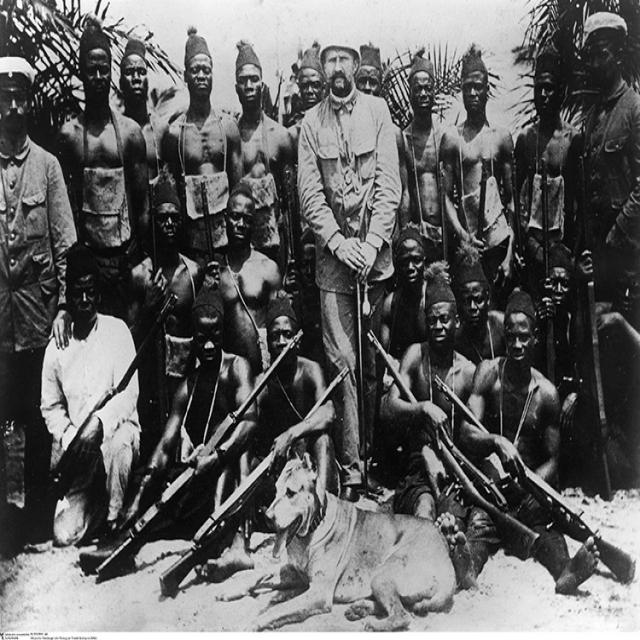body: (294, 26, 404, 505), (447, 286, 602, 596), (188, 290, 340, 591), (0, 51, 82, 558), (39, 241, 142, 550), (124, 287, 253, 532), (54, 23, 153, 317), (384, 259, 475, 537), (352, 37, 415, 420), (439, 45, 522, 314), (570, 8, 640, 303), (163, 22, 244, 268), (129, 178, 206, 435), (532, 235, 596, 488), (204, 186, 282, 386), (234, 39, 298, 272), (513, 51, 580, 273), (399, 54, 460, 264), (376, 220, 430, 408), (118, 37, 170, 183), (451, 258, 508, 364), (289, 224, 328, 360), (296, 42, 329, 112)
